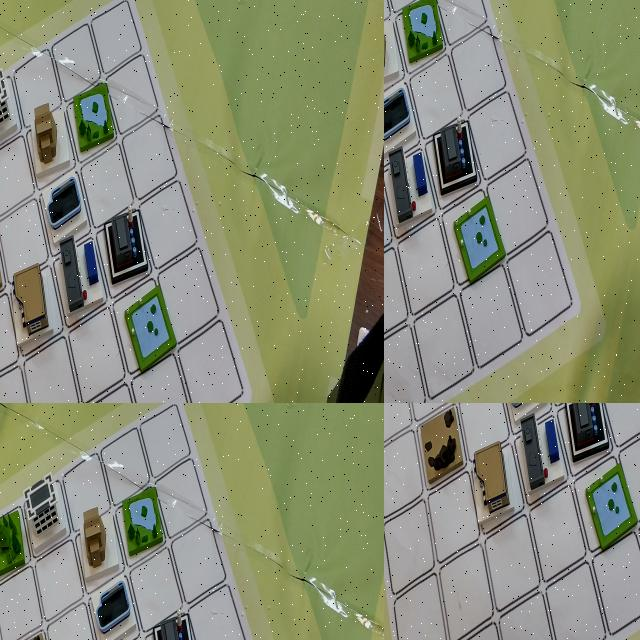bus_stop: (13, 516, 80, 628), (513, 406, 573, 502), (384, 0, 420, 101), (0, 190, 29, 286)
factory: (384, 229, 449, 347), (560, 403, 612, 467), (0, 585, 45, 640)
fish_pool: (477, 11, 541, 122), (584, 457, 640, 552), (0, 263, 28, 359), (0, 557, 32, 640)
forest: (384, 230, 424, 363), (246, 500, 305, 585), (391, 403, 442, 444)
gogo_shop: (63, 553, 134, 640), (384, 103, 422, 226), (0, 128, 27, 221), (502, 403, 556, 440)
research_build: (204, 541, 277, 640), (390, 0, 458, 93), (36, 327, 93, 403), (431, 403, 479, 448)
restaurant: (384, 75, 457, 213), (49, 467, 116, 569), (466, 431, 518, 537), (28, 170, 83, 262)
silicate_rock: (118, 458, 184, 551), (414, 403, 469, 488), (384, 317, 417, 403)
volunteer_center: (122, 565, 194, 640), (384, 197, 423, 330), (487, 403, 531, 443), (0, 343, 27, 403)
wet_land: (22, 122, 84, 199), (384, 105, 418, 211), (529, 403, 583, 442)
